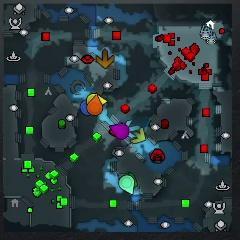p1: (80, 100, 90, 116)
p2: (120, 176, 135, 194)
p3: (109, 124, 129, 139)
p4: (87, 93, 107, 104)
p5: (87, 95, 102, 116)
x2: (131, 127, 145, 145)
x3: (124, 120, 139, 139)
x4: (128, 172, 137, 186)
x5: (96, 49, 114, 68)
